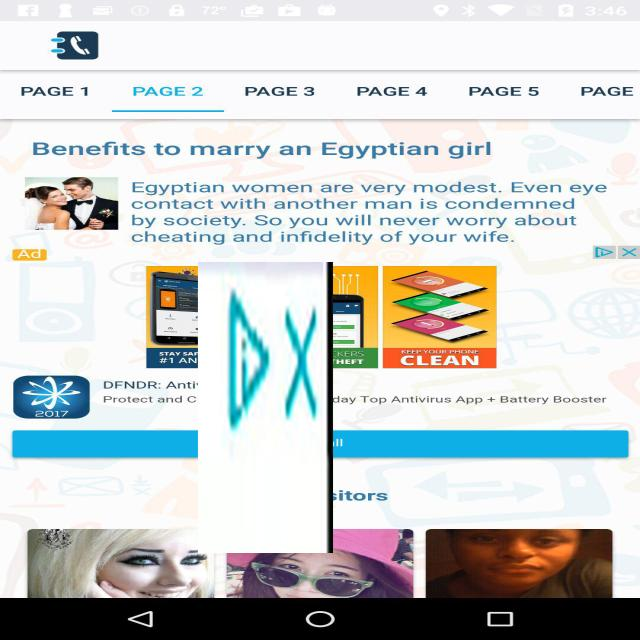sneaking: (198, 262, 333, 553)
